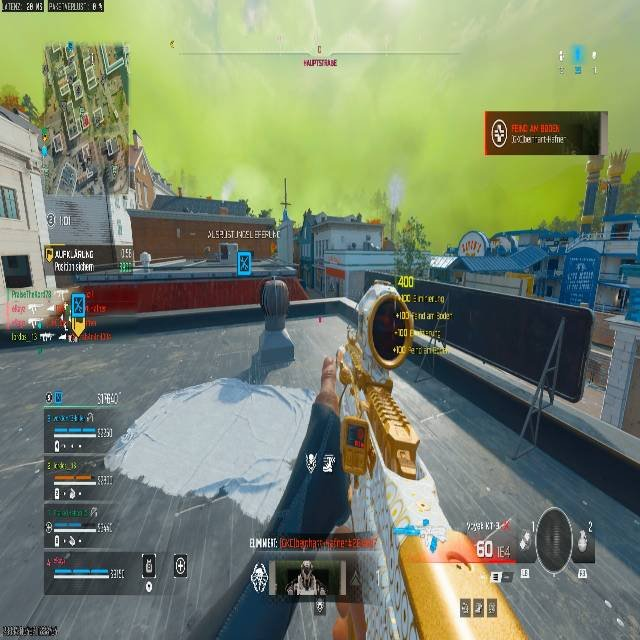head: (356, 279, 414, 359)
player: (302, 279, 454, 584), (234, 248, 253, 273)
